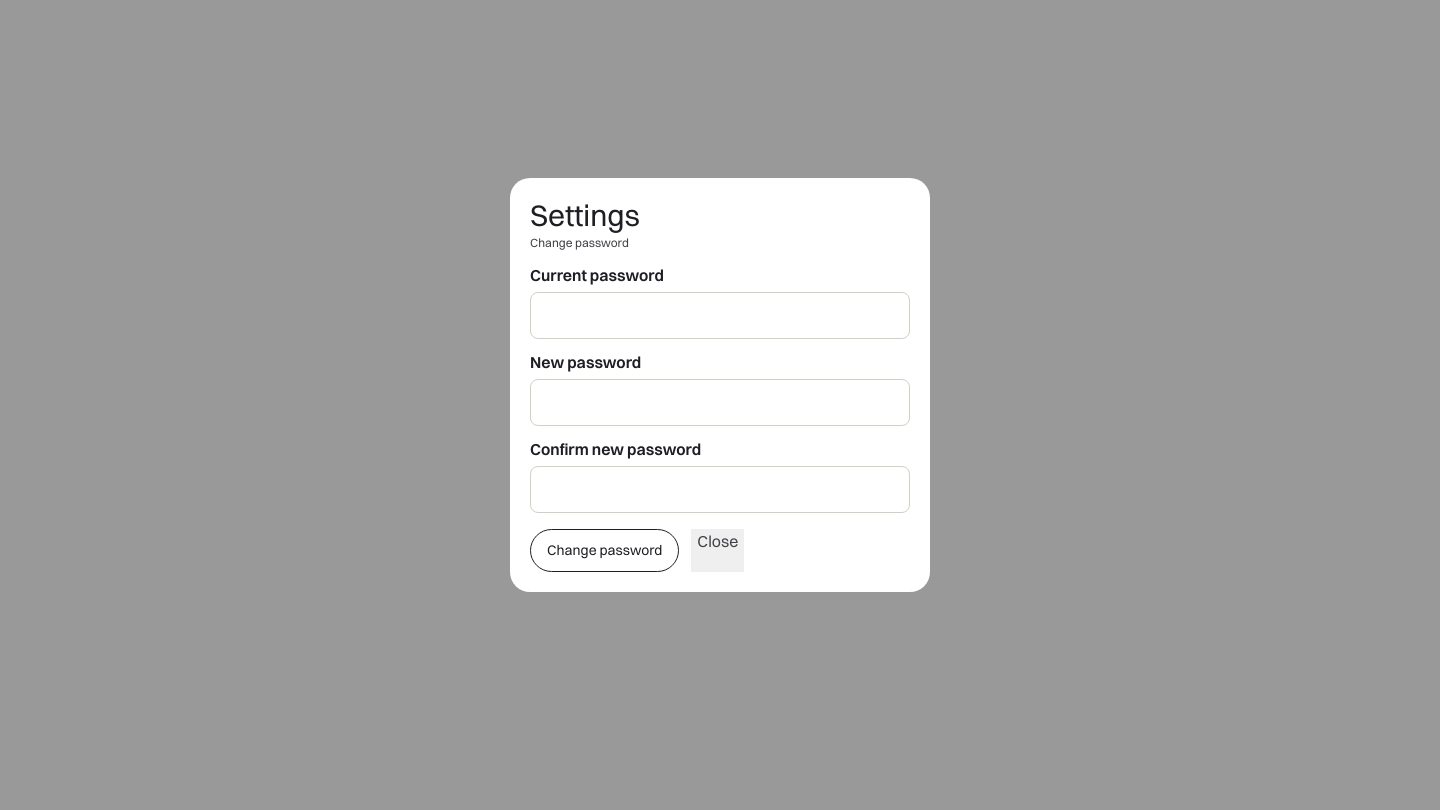
Settings — change password › shows the API message for a wrong current password and stays signed in
In the password field labelled "Current password": (720, 315) [530,292,910,339], type "not-it"
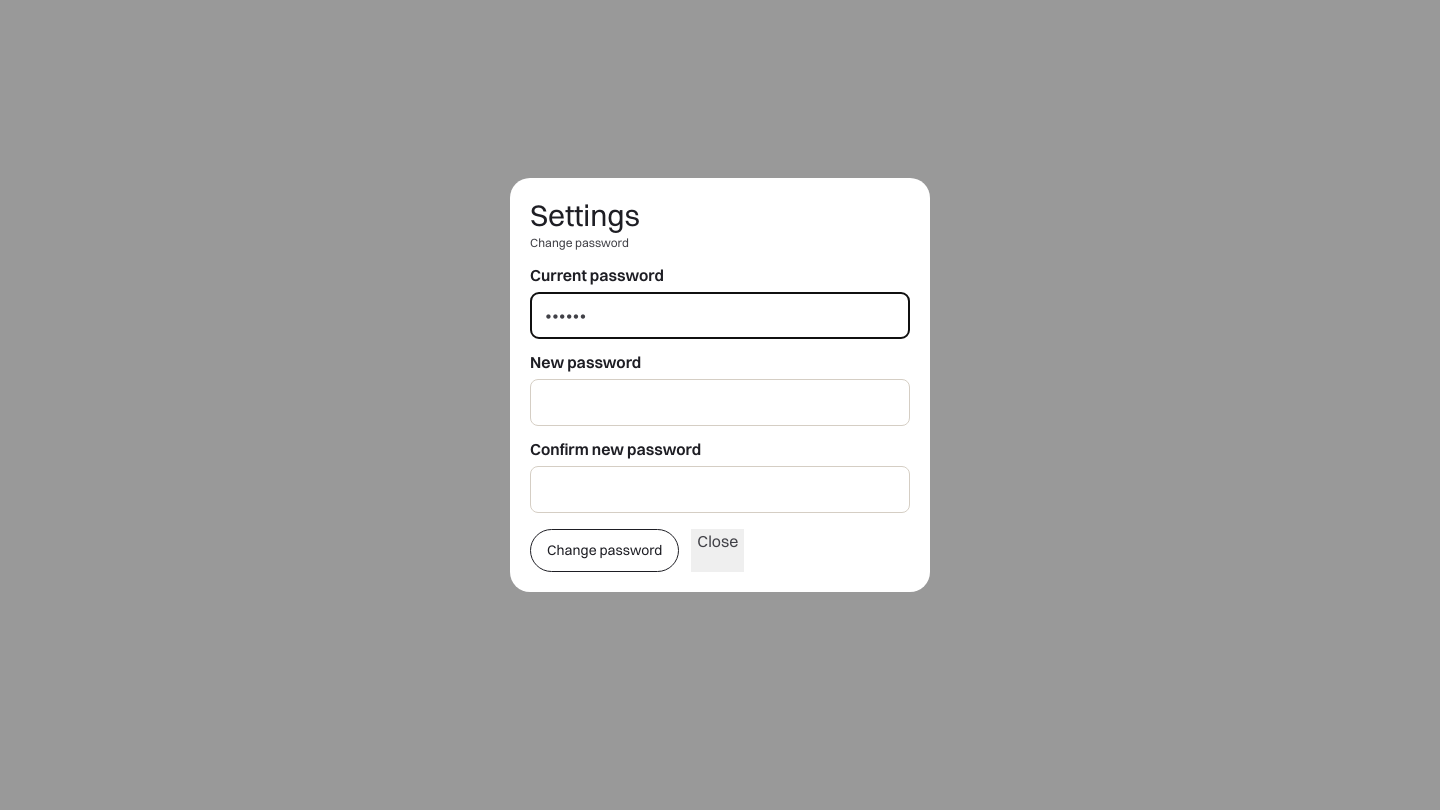
In the password field labelled "New password": (720, 402) [530,379,910,426], type "brand new password"
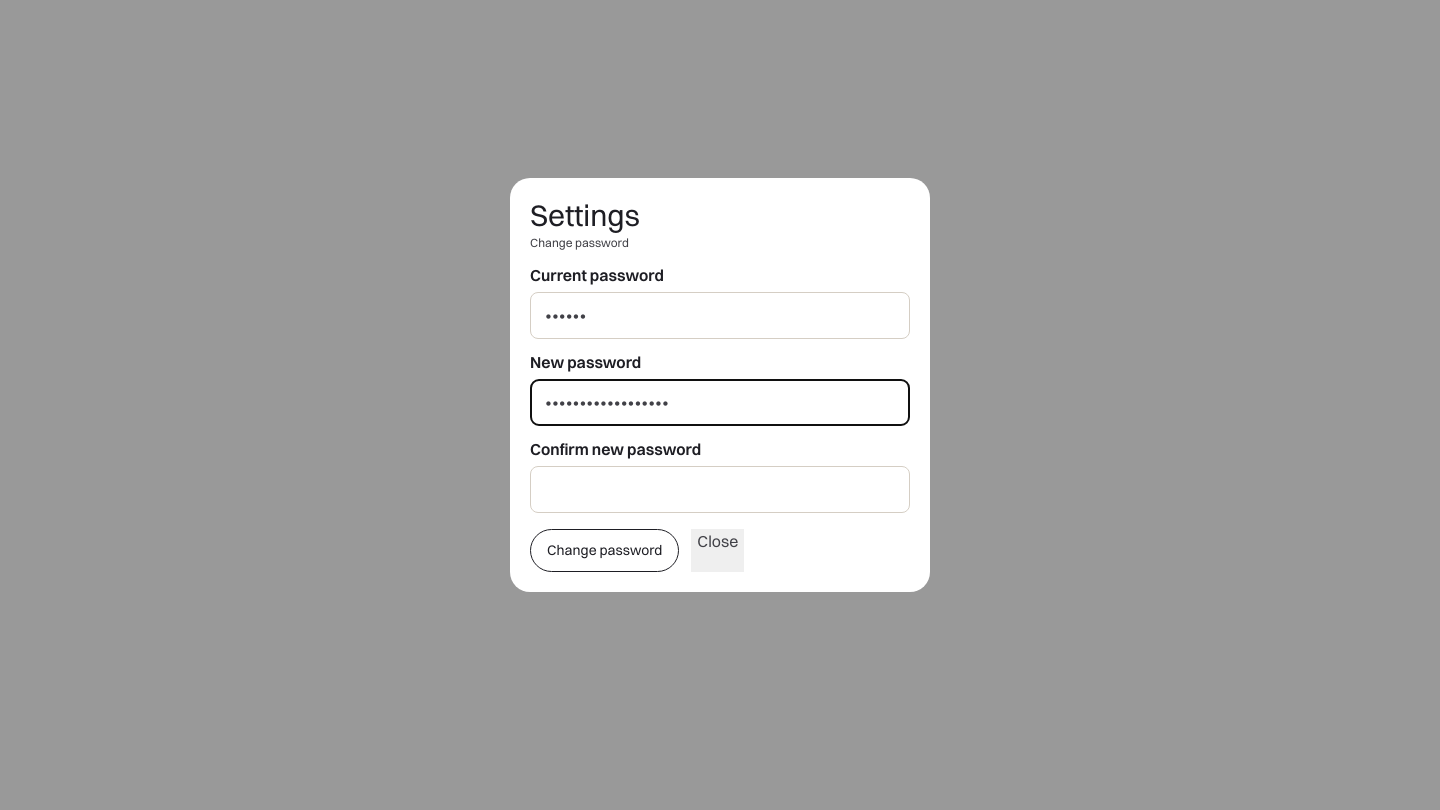
In the password field labelled "Confirm new password": (720, 489) [530,466,910,513], type "brand new password"
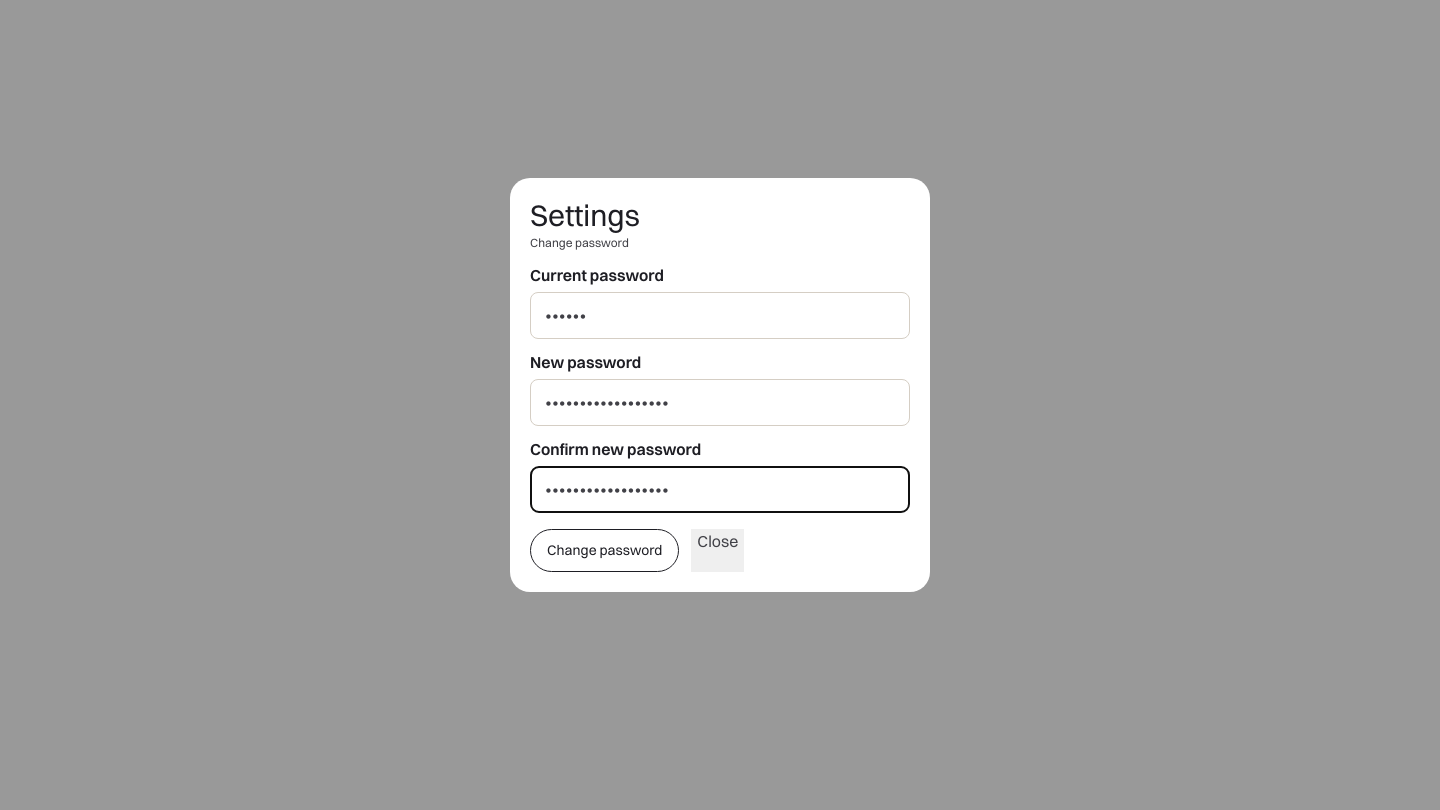
Click the button "Change password": (605, 551) [530,529,679,572]
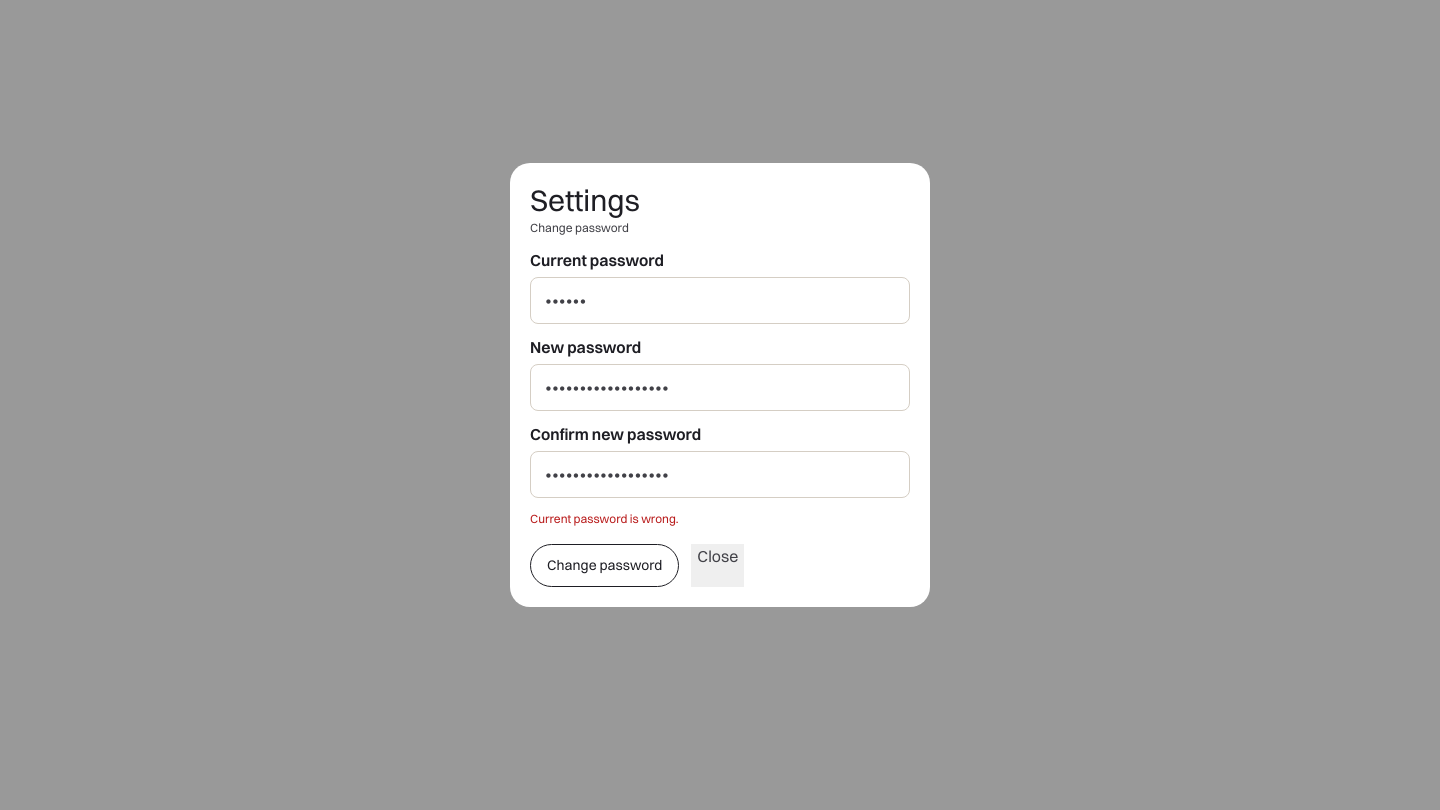
Now the message reads "Current password is wrong.", box [530,511,679,526]
